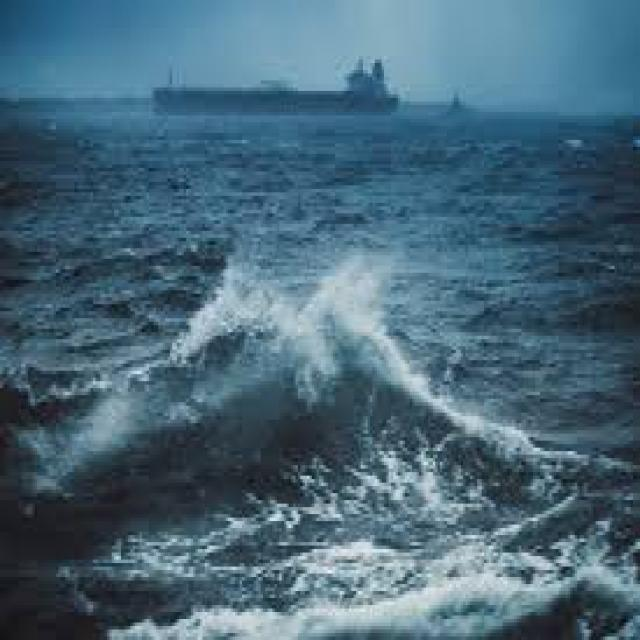cargoship: (146, 43, 396, 124)
